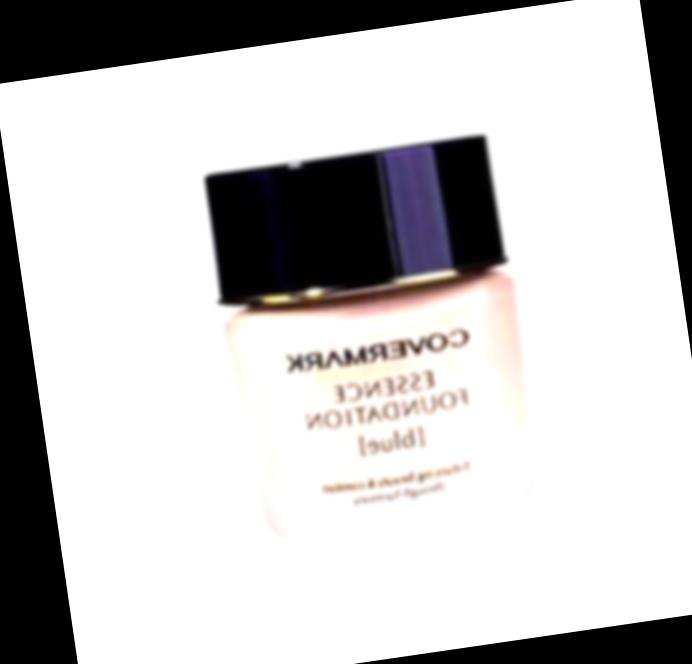cosmetic: (198, 132, 549, 550)
